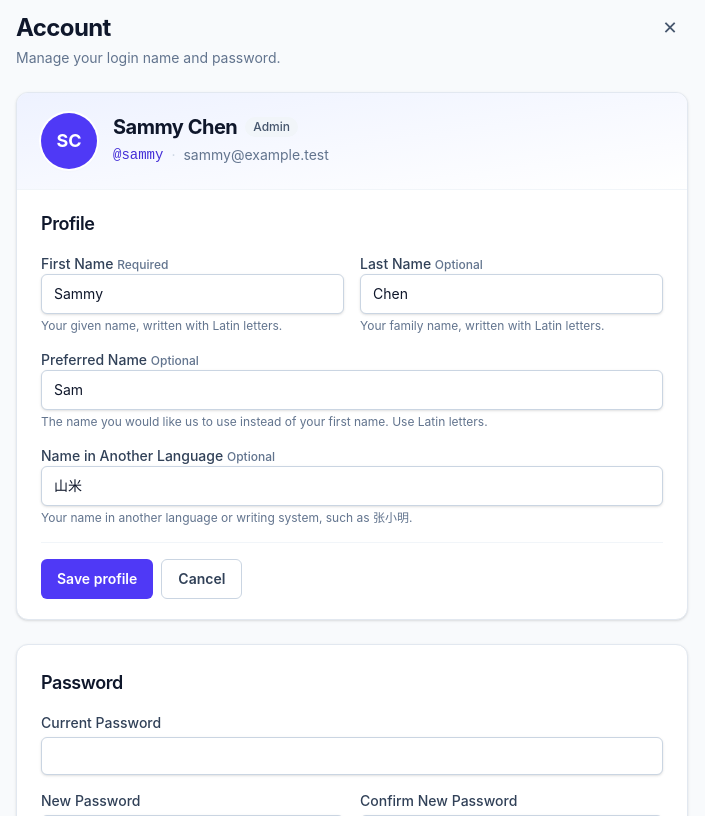
it: cancels profile edits without saving and restores the four current account fields
The image size is (705, 816).
Replace the text in the field labelled "First Name Required" with "Draft name" at x=192, y=294, box [41, 274, 344, 314]
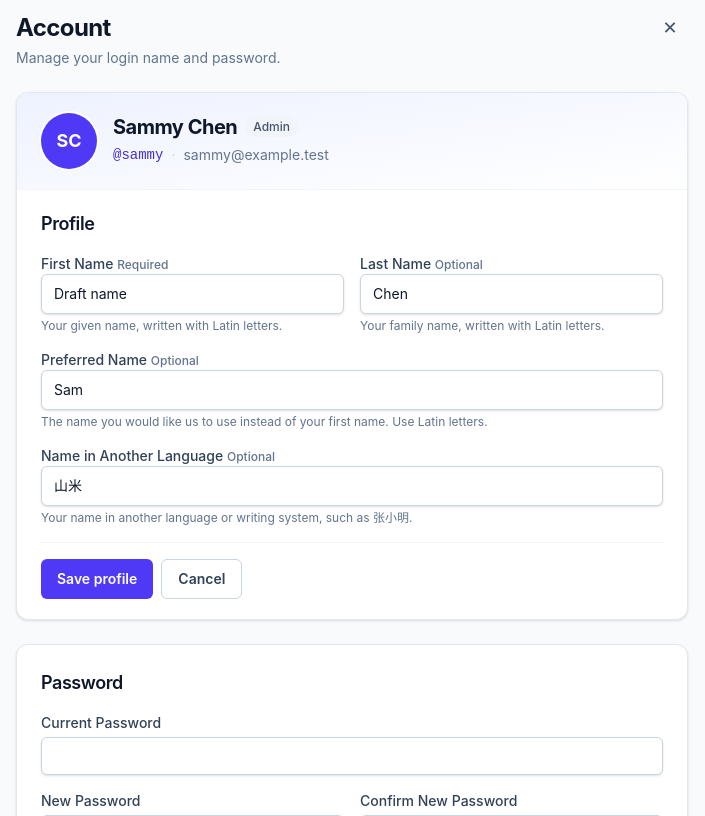
Replace the text in the field labelled "Last Name Optional" with "Draft surname" at x=512, y=294, box [360, 274, 663, 314]
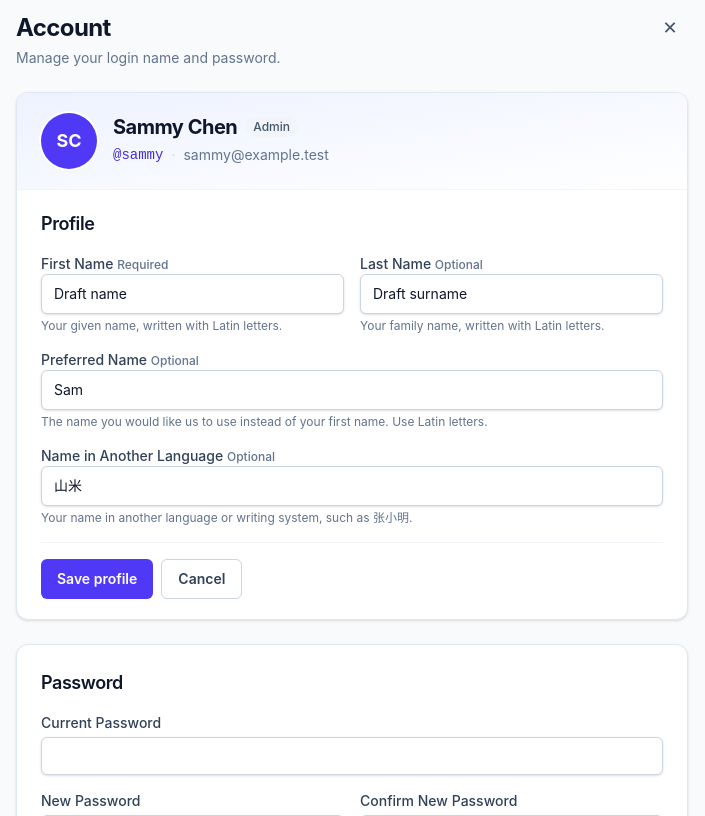
Replace the text in the field labelled "Preferred Name Optional" with "Draft nickname" at x=352, y=390, box [41, 370, 663, 410]
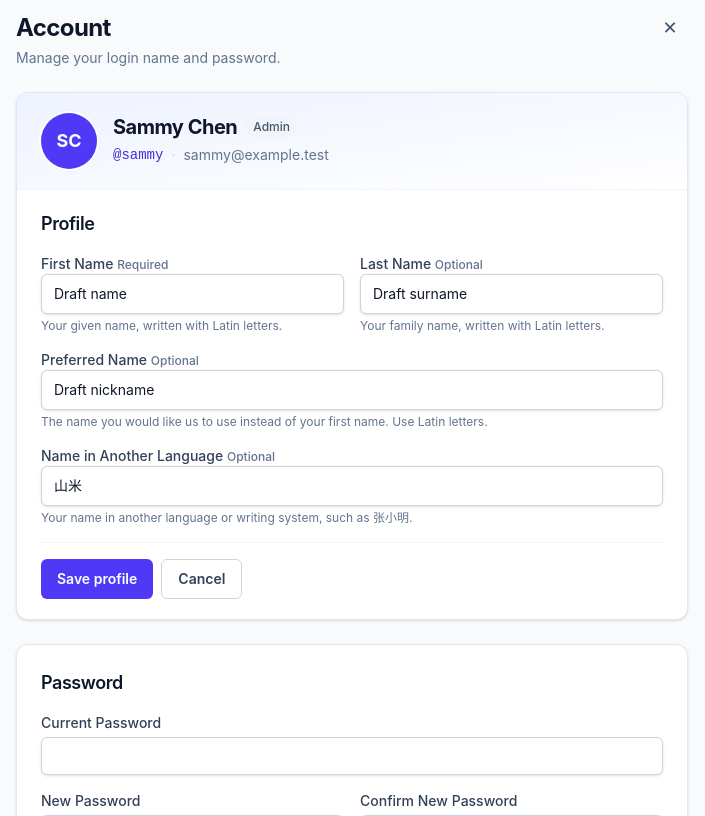
Replace the text in the field labelled "Name in Another Language Optional" with "Draft alternate" at x=352, y=486, box [41, 466, 663, 506]
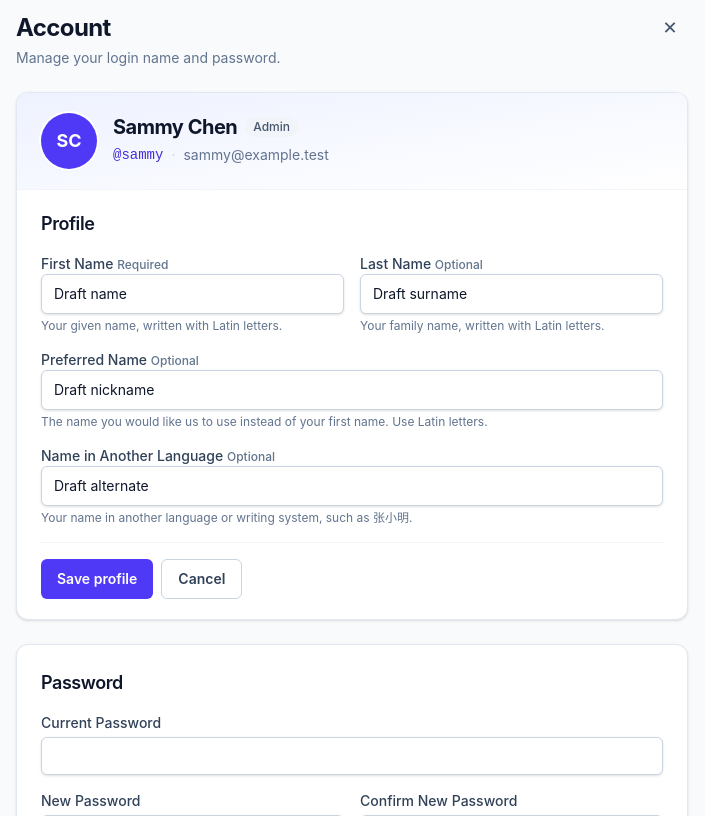
Click the button "Cancel" at x=202, y=579, box [161, 559, 242, 599]
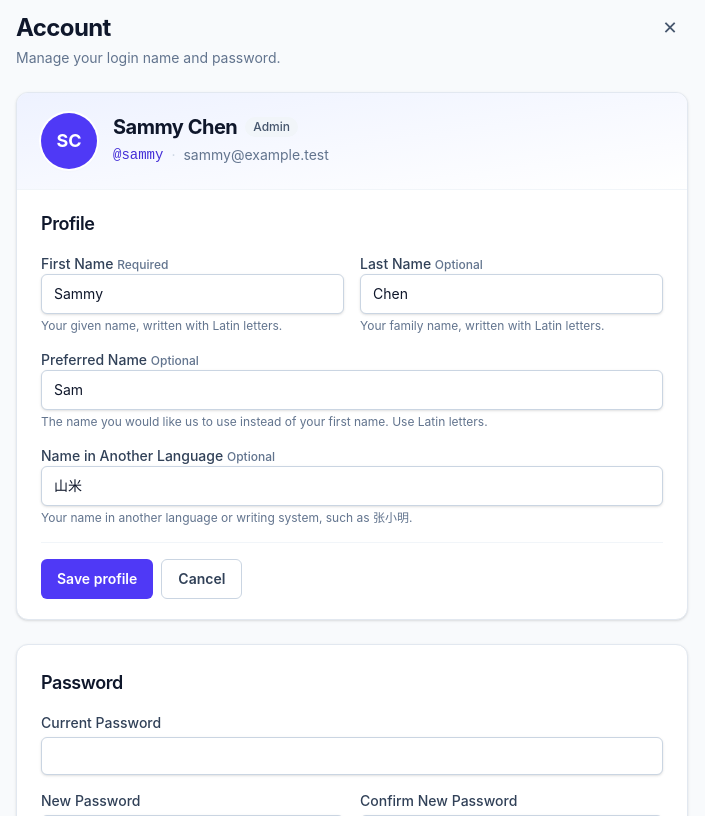
Now the field labelled "First Name Required" holds "Sammy", box [41, 274, 344, 314]
Now the field labelled "Last Name Optional" holds "Chen", box [360, 274, 663, 314]
